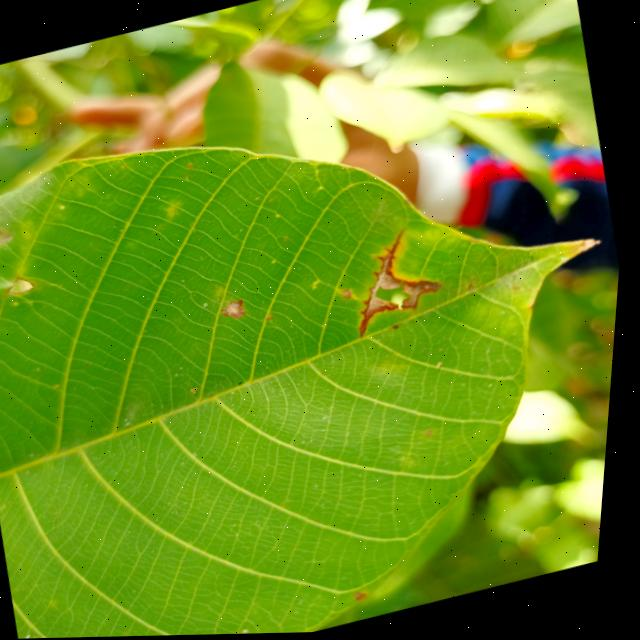Corynespora: (369, 230, 417, 281), (358, 309, 383, 339)
Leaf-Blight: (366, 269, 427, 319), (226, 299, 252, 322)
